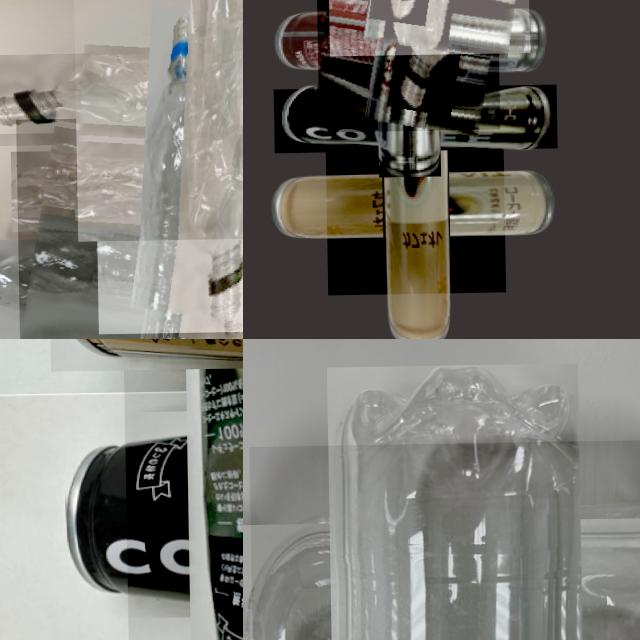Can: (123, 345, 243, 640), (324, 113, 506, 294), (316, 0, 500, 131), (273, 83, 557, 152)
Transparent Plastic Bottle: (249, 438, 640, 640), (15, 112, 243, 339), (93, 39, 243, 333), (73, 0, 243, 240), (326, 0, 529, 54)
